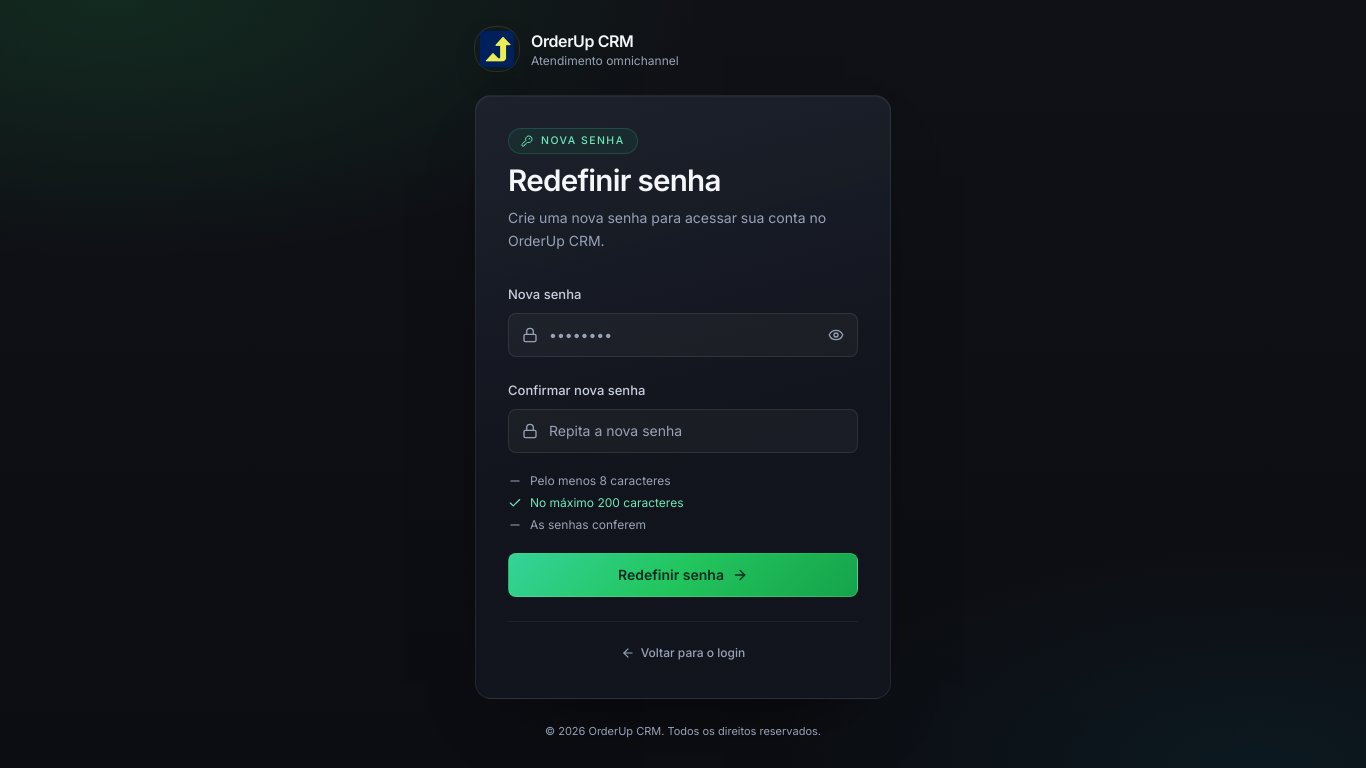
Test: ResetPasswordPage › resets the password, clears the token from the URL and points back to login
This screenshot has width=1366, height=768.
Type "senha-12345" into the password field labelled "Nova senha" at (683, 335), box x1=508 y1=313 x2=858 y2=357
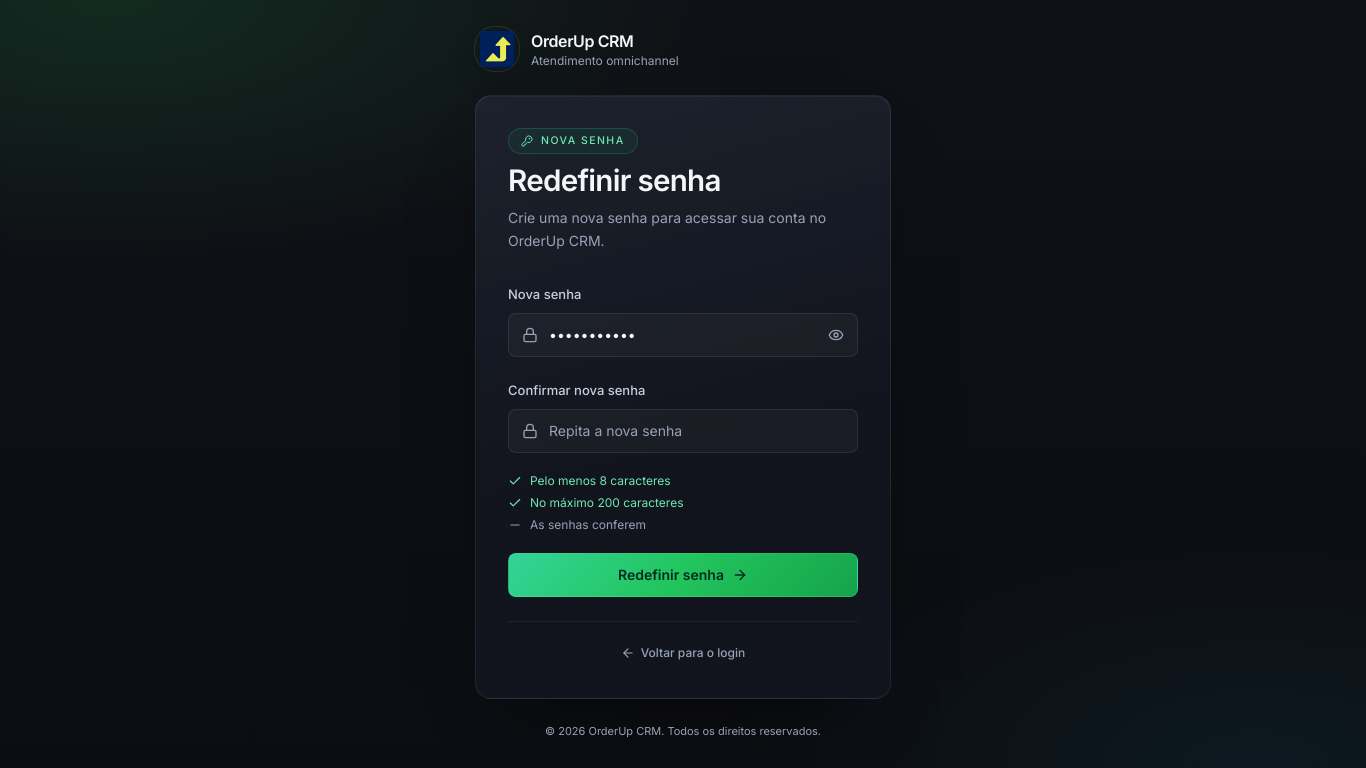
Type "senha-12345" into the password field labelled "Confirmar nova senha" at (683, 431), box x1=508 y1=409 x2=858 y2=453
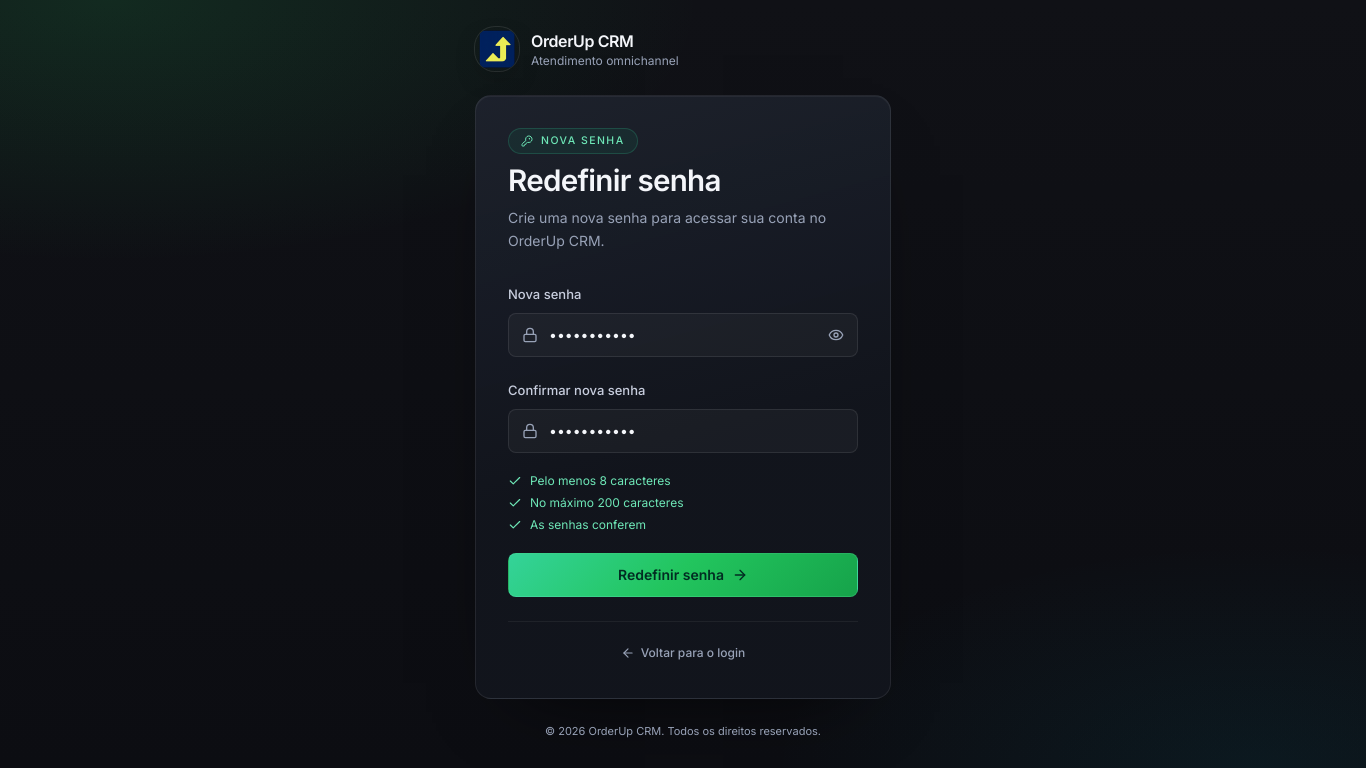
Click the button "Redefinir senha" at (683, 575), box x1=508 y1=553 x2=858 y2=597
(page scrolled)
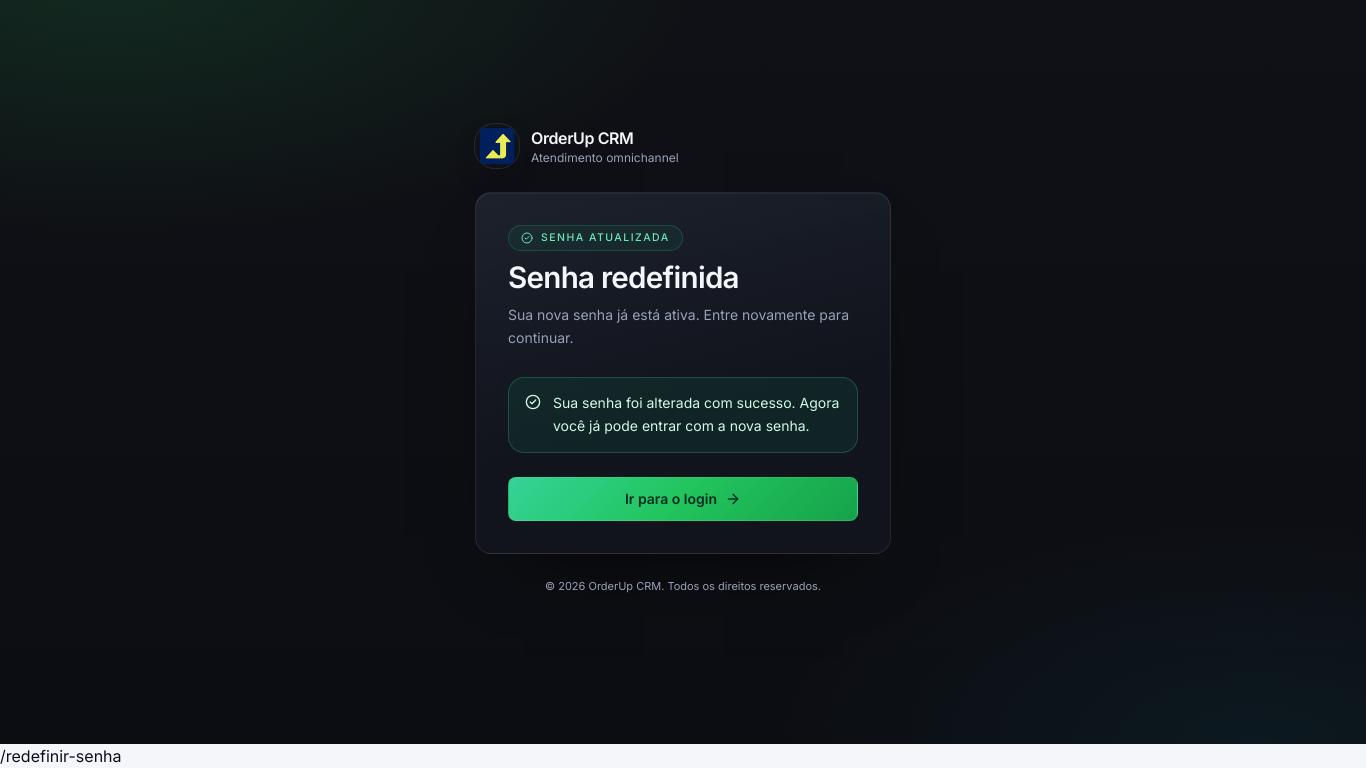
expect the heading "Senha redefinida" is shown: met, box x1=508 y1=259 x2=739 y2=295
expect the link "Ir para o login" is shown: met, box x1=508 y1=477 x2=858 y2=521
expect the text with test id "location" reads "/redefinir-senha": met, box x1=0 y1=746 x2=122 y2=766
